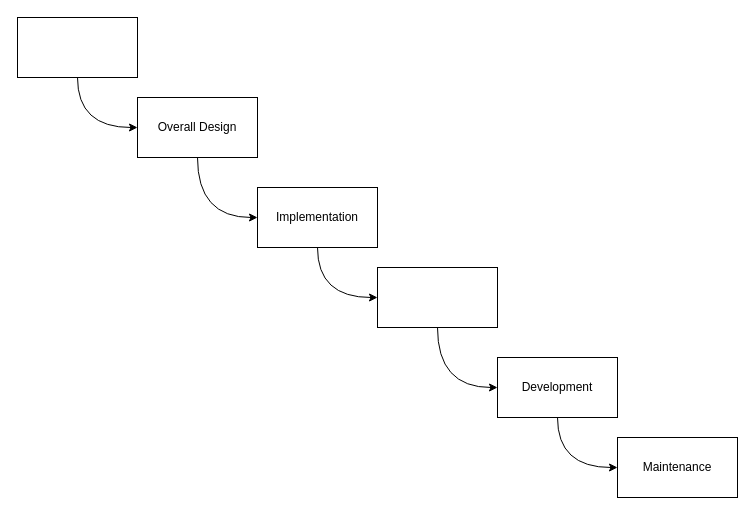
Some shapes in this 755 by 515 pixel diagram are drawn without their labels. The shapes that lost their labels are listed below. From the top down, each one's centre as x and y in pixels, then its label:
(77,47): Requirement Gathering & Analysis
(437,297): Testing
